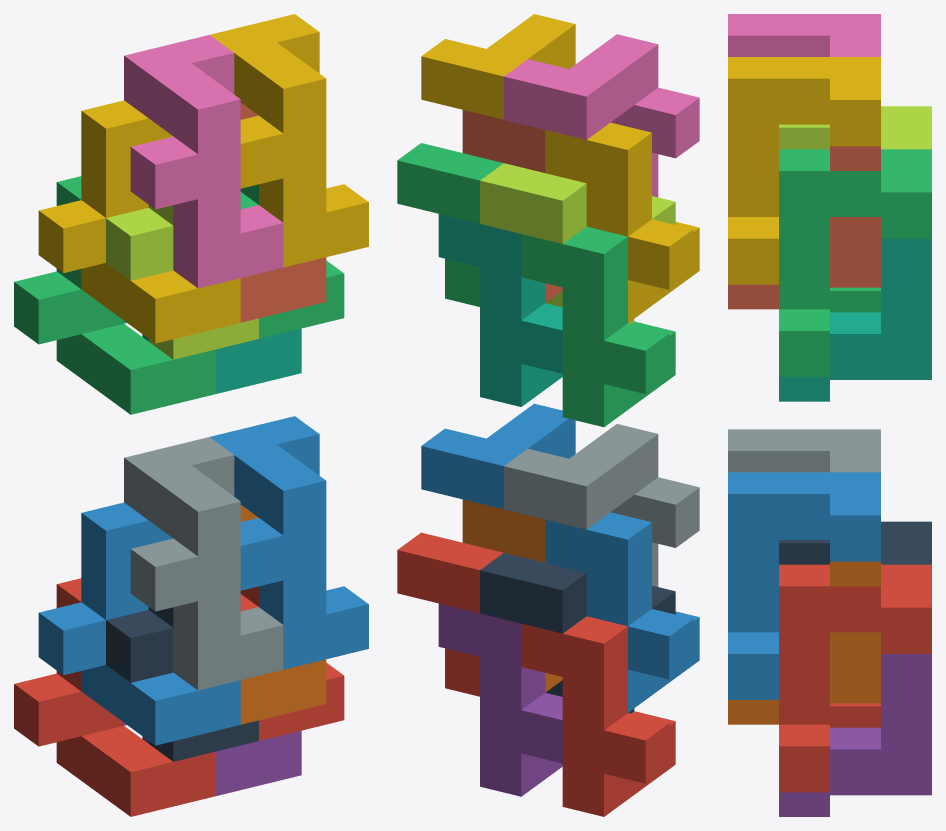
Rendered from tiling.obj.
3 views of the same model, side by side, from view 1: azimuth 30°, elevation 25°; view 2: azimuth 150°, elevation 25°; view 3: azimuth 270°, elevation 25° (orthographic). The views are drawn at different scales.
Visible parts, largest first — view 1: copy_2_domain_2, copy_2_domain_4, copy_2_domain_6, copy_2_domain_8, copy_1_domain_2, copy_1_domain_4, copy_1_domain_3, copy_1_domain_1, copy_2_domain_1, copy_2_domain_3, copy_1_domain_6, copy_1_domain_8 (+4 smaller); view 2: copy_1_domain_1, copy_1_domain_3, copy_2_domain_2, copy_2_domain_4, copy_1_domain_4, copy_1_domain_2, copy_1_domain_5, copy_1_domain_7, copy_2_domain_8, copy_2_domain_6, copy_2_domain_1, copy_2_domain_3 (+4 smaller); view 3: copy_2_domain_6, copy_2_domain_8, copy_2_domain_5, copy_2_domain_7, copy_1_domain_5, copy_1_domain_7, copy_2_domain_2, copy_2_domain_4, copy_1_domain_6, copy_1_domain_8, copy_2_domain_3, copy_2_domain_1 (+2 smaller).
Part boxes in pixels (x1,y1,x2,y2): copy_2_domain_2: (124, 437, 283, 690); copy_2_domain_4: (124, 35, 283, 288); copy_2_domain_6: (210, 416, 368, 669); copy_2_domain_8: (210, 14, 368, 267); copy_1_domain_2: (38, 502, 240, 745); copy_1_domain_4: (38, 100, 240, 343); copy_1_domain_3: (14, 176, 215, 414); copy_1_domain_1: (14, 578, 215, 816); copy_2_domain_1: (106, 607, 258, 761); copy_2_domain_3: (106, 205, 258, 359); copy_1_domain_6: (240, 505, 326, 724); copy_1_domain_8: (240, 102, 326, 322); copy_1_domain_1: (521, 616, 675, 816); copy_1_domain_3: (521, 226, 675, 427); copy_2_domain_2: (504, 424, 699, 586); copy_2_domain_4: (504, 34, 699, 197); copy_1_domain_4: (545, 122, 699, 322); copy_1_domain_2: (545, 512, 699, 712); copy_1_domain_5: (438, 603, 562, 796); copy_1_domain_7: (438, 214, 562, 406); copy_2_domain_8: (421, 14, 575, 119); copy_2_domain_6: (421, 403, 575, 509); copy_2_domain_1: (480, 553, 675, 713); copy_2_domain_3: (480, 163, 675, 323); copy_2_domain_6: (728, 472, 880, 699); copy_2_domain_8: (728, 57, 880, 284); copy_2_domain_5: (779, 564, 931, 792); copy_2_domain_7: (779, 149, 931, 376); copy_1_domain_5: (779, 654, 931, 816); copy_1_domain_7: (779, 238, 931, 401); copy_2_domain_2: (728, 429, 880, 472); copy_2_domain_4: (728, 14, 880, 56); copy_1_domain_6: (728, 561, 880, 724); copy_1_domain_8: (728, 146, 880, 309); copy_2_domain_3: (779, 106, 931, 149); copy_2_domain_1: (779, 521, 931, 564).
Size of the model in its own units: 6 by 16 by 4.
